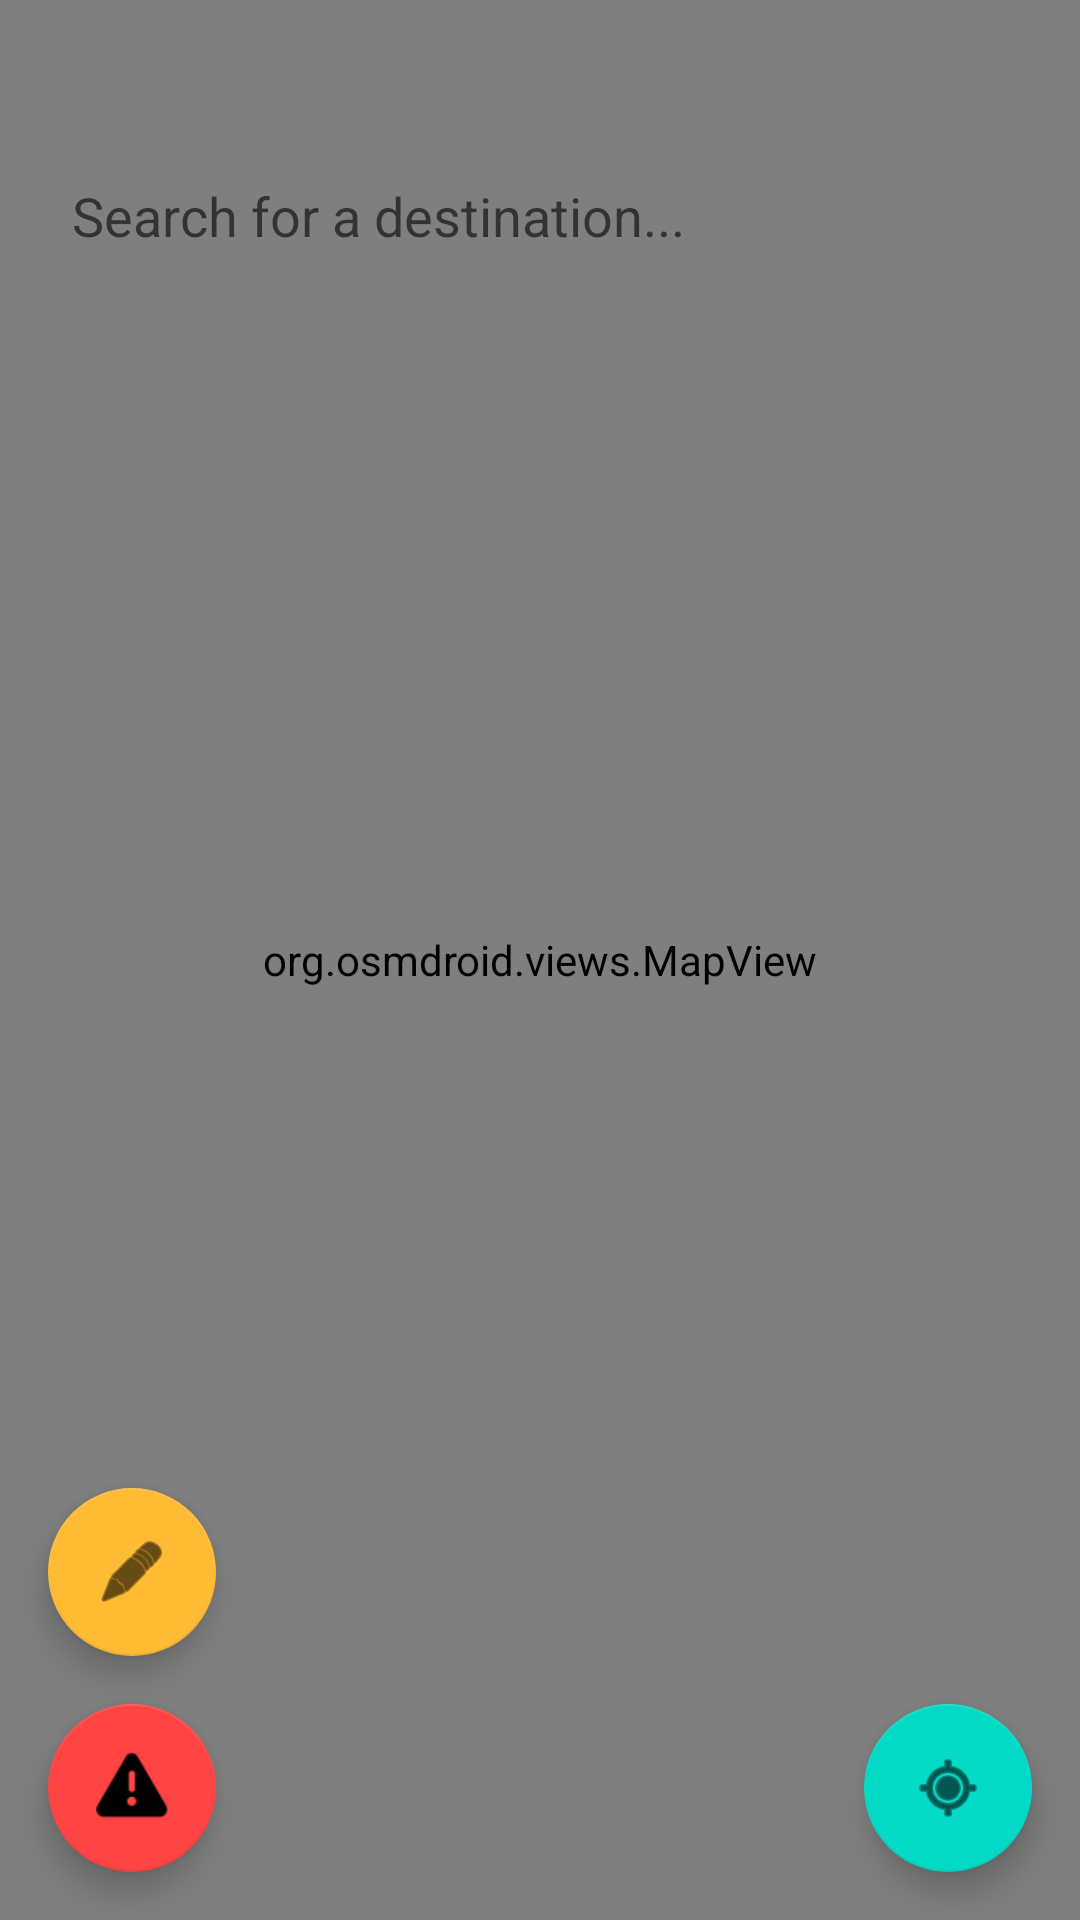

Icons on this 1080 x 1920 Android screen, each with the point to tap as point (x, y):
alert: point (132, 1788)
edit: point (132, 1572)
mylocation: point (948, 1788)
